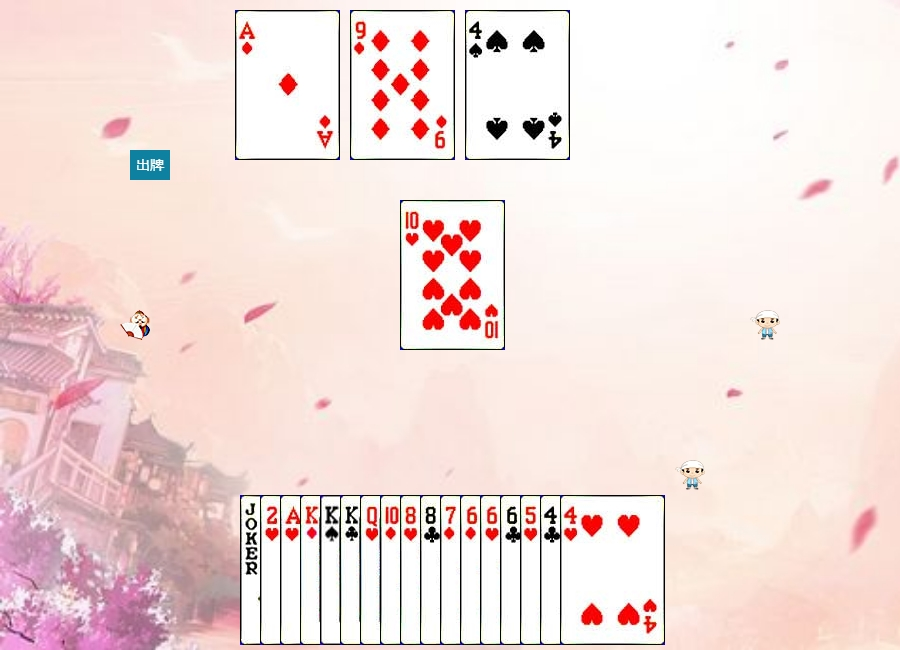10~1: (380, 495, 485, 645)
10~3: (400, 200, 505, 350)
12~3: (360, 495, 465, 645)
13~1: (300, 495, 405, 645)
13~2: (340, 495, 445, 645)
13~4: (320, 495, 425, 645)
14~1: (235, 10, 340, 160)
14~3: (280, 495, 385, 645)
15~3: (260, 495, 365, 645)
17~3: (240, 495, 345, 645)
4~2: (540, 495, 645, 645)
4~3: (560, 495, 665, 645)
4~4: (465, 10, 570, 160)
5~3: (520, 495, 625, 645)
6~1: (460, 495, 565, 645)
6~2: (500, 495, 605, 645)
6~3: (480, 495, 585, 645)
7~1: (440, 495, 545, 645)
8~2: (420, 495, 525, 645)
8~3: (400, 495, 505, 645)
9~1: (350, 10, 455, 160)
